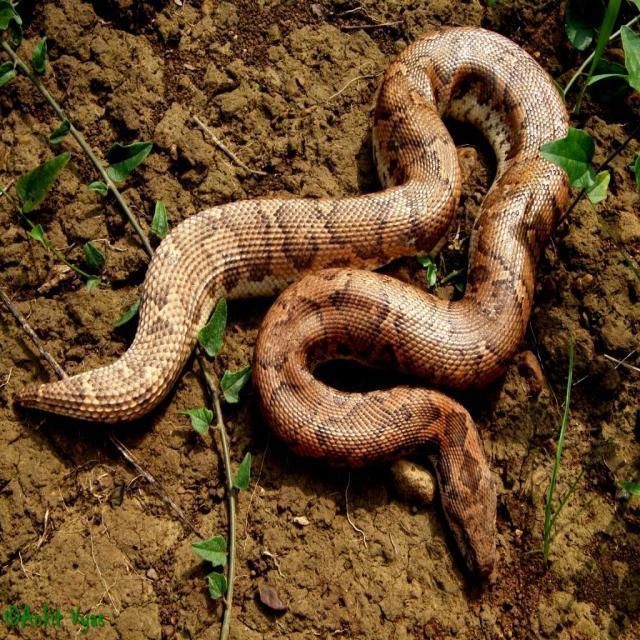Snake: (8, 22, 572, 581)
